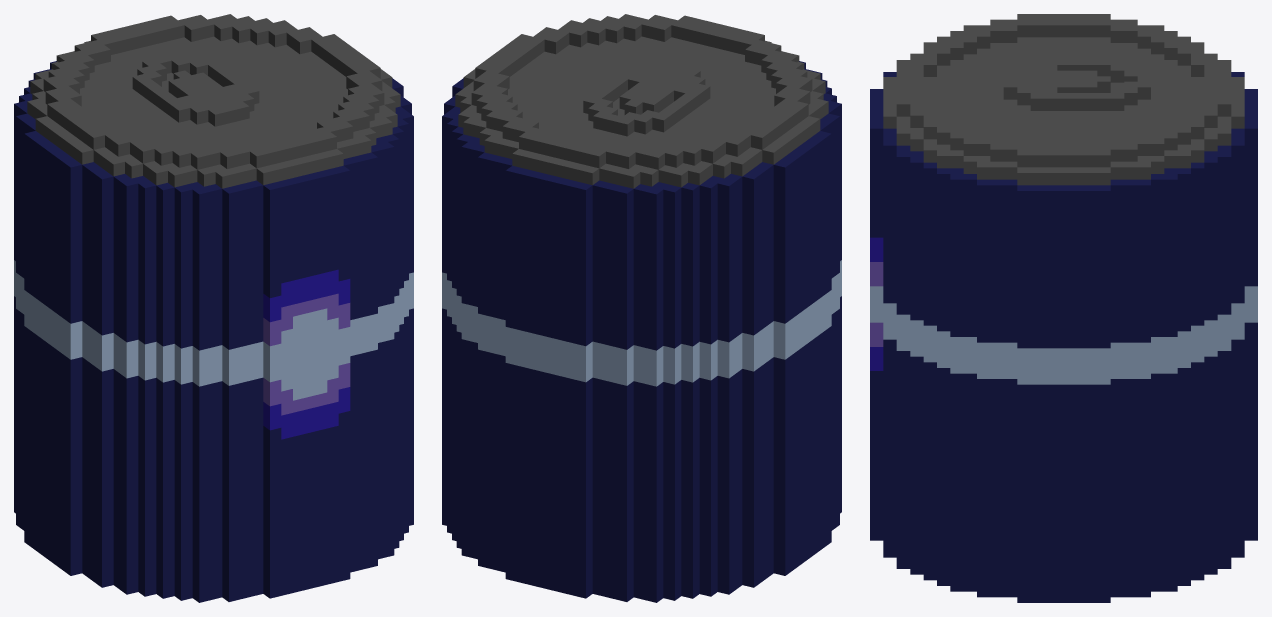
Rendered from bluecan.obj.
3 renders of one model, left to right at view 1: azimuth 30°, elevation 25°; view 2: azimuth 150°, elevation 25°; view 3: azimuth 270°, elevation 25°, orthographic.
Bounding box in the file's own units: 2.9 × 3.6 × 2.9.
Materials: 1 (1 with a texture image).
